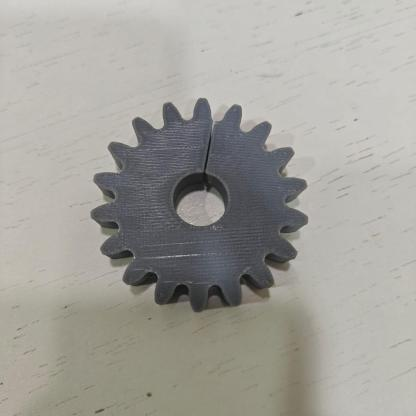defect: (184, 92, 253, 200)
gear: (80, 84, 328, 334)
